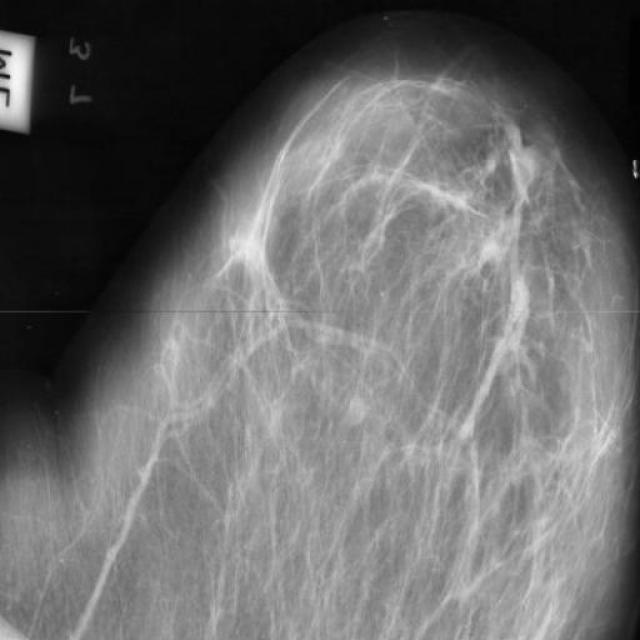cancer: (486, 294, 556, 390)
